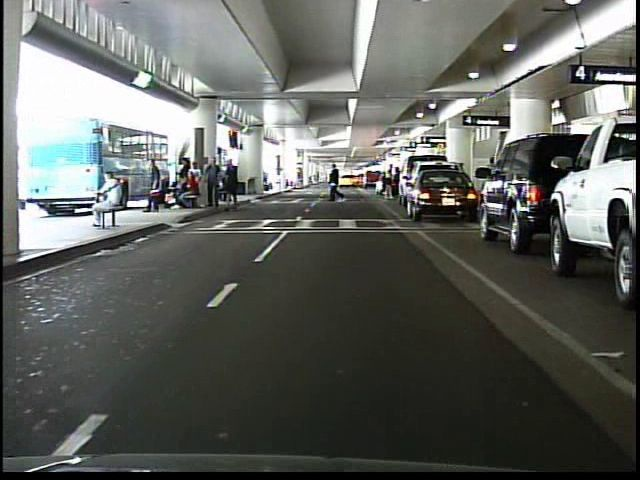person: (78, 165, 126, 233), (138, 154, 164, 216), (326, 162, 348, 207), (379, 161, 395, 198)
